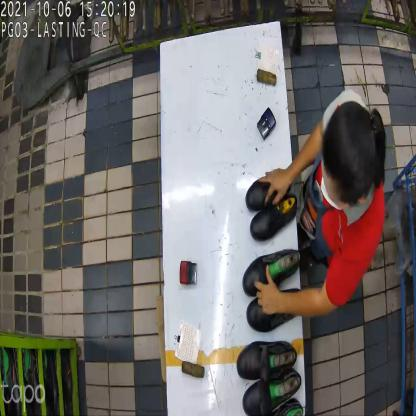shoes: (234, 247, 306, 337), (236, 333, 304, 415), (240, 170, 306, 241)
stamp: (257, 106, 277, 141), (179, 258, 197, 288)
